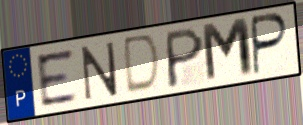D: (123, 32, 163, 97)
E: (34, 46, 80, 110)
M: (199, 15, 257, 86)
N: (80, 39, 120, 103)
P: (251, 11, 291, 78), (165, 25, 206, 90)
